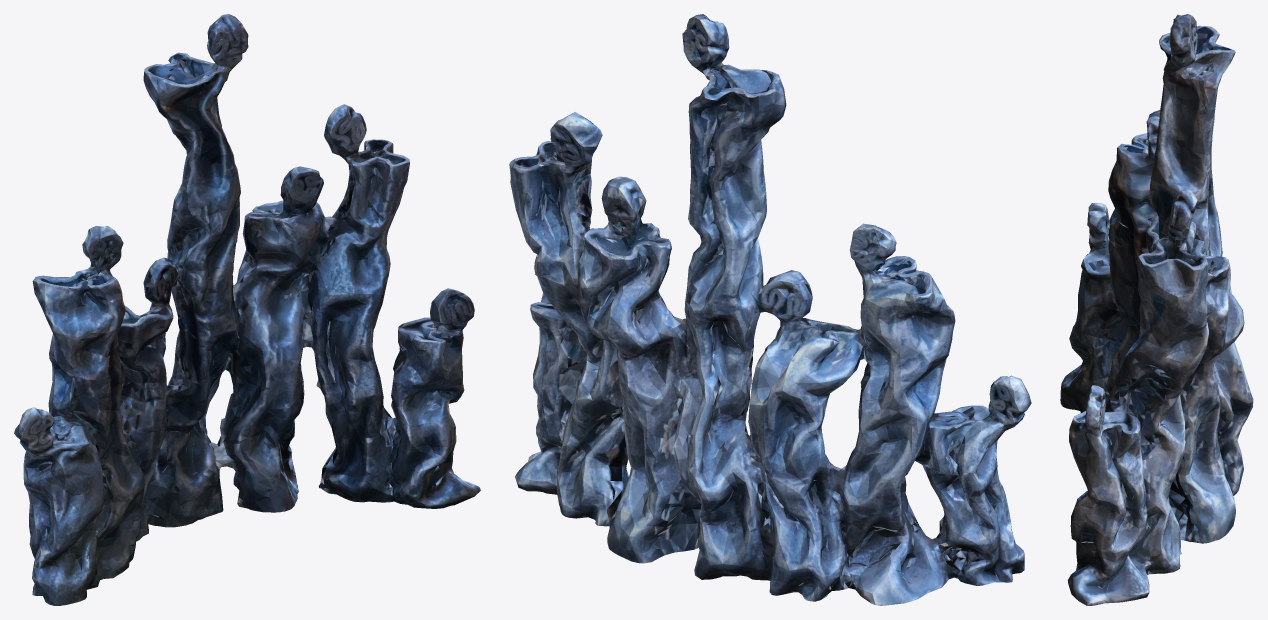
The model's file is sc_Crps.glb.
3 views of the same model, side by side, from view 1: azimuth 30°, elevation 25°; view 2: azimuth 150°, elevation 25°; view 3: azimuth 270°, elevation 25° (orthographic). The views are drawn at different scales.
Parts seen in each view (by area): view 1: model.001; view 2: model.001; view 3: model.001.
Boxes of the visible parts, x1=… form: model.001: x1=14, y1=14, x2=480, y2=605; model.001: x1=509, y1=14, x2=1031, y2=605; model.001: x1=1060, y1=14, x2=1253, y2=605.
Bounding box in the file's own units: 0.3969 × 0.4043 × 0.1444.
Materials: 1 (1 with a texture image).
